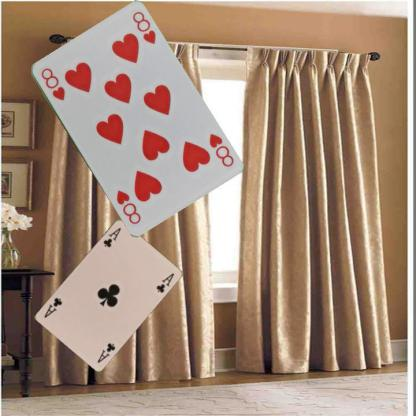8h: (206, 130, 235, 168), (38, 65, 66, 102)
Ac: (94, 340, 116, 364), (100, 225, 122, 248)
